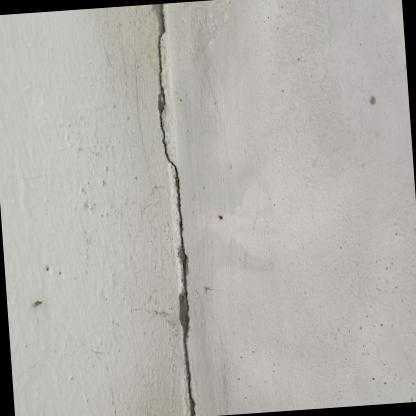crack: (152, 3, 195, 416)
